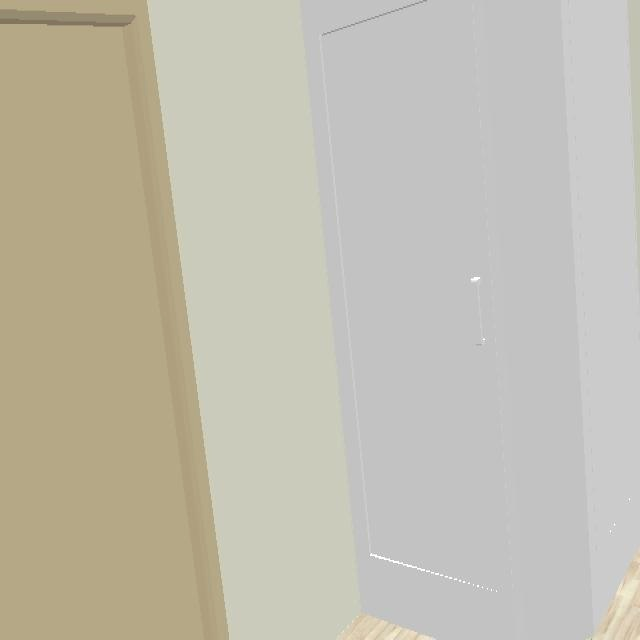shower: (303, 0, 640, 640)
